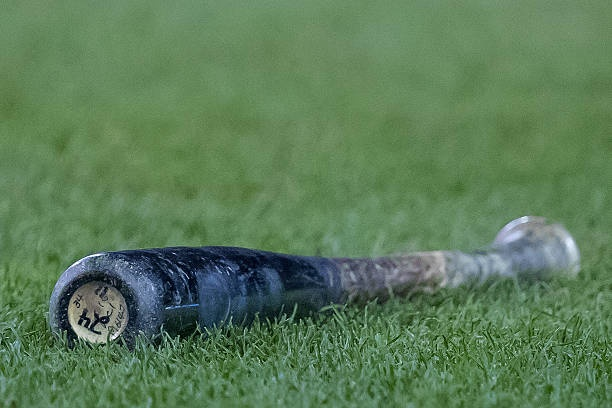bita: (52, 217, 582, 349)
